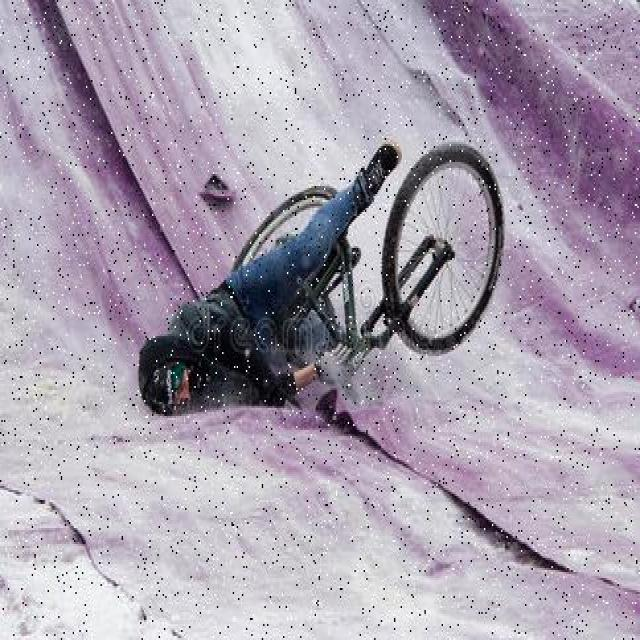fall: (138, 156, 386, 416)
